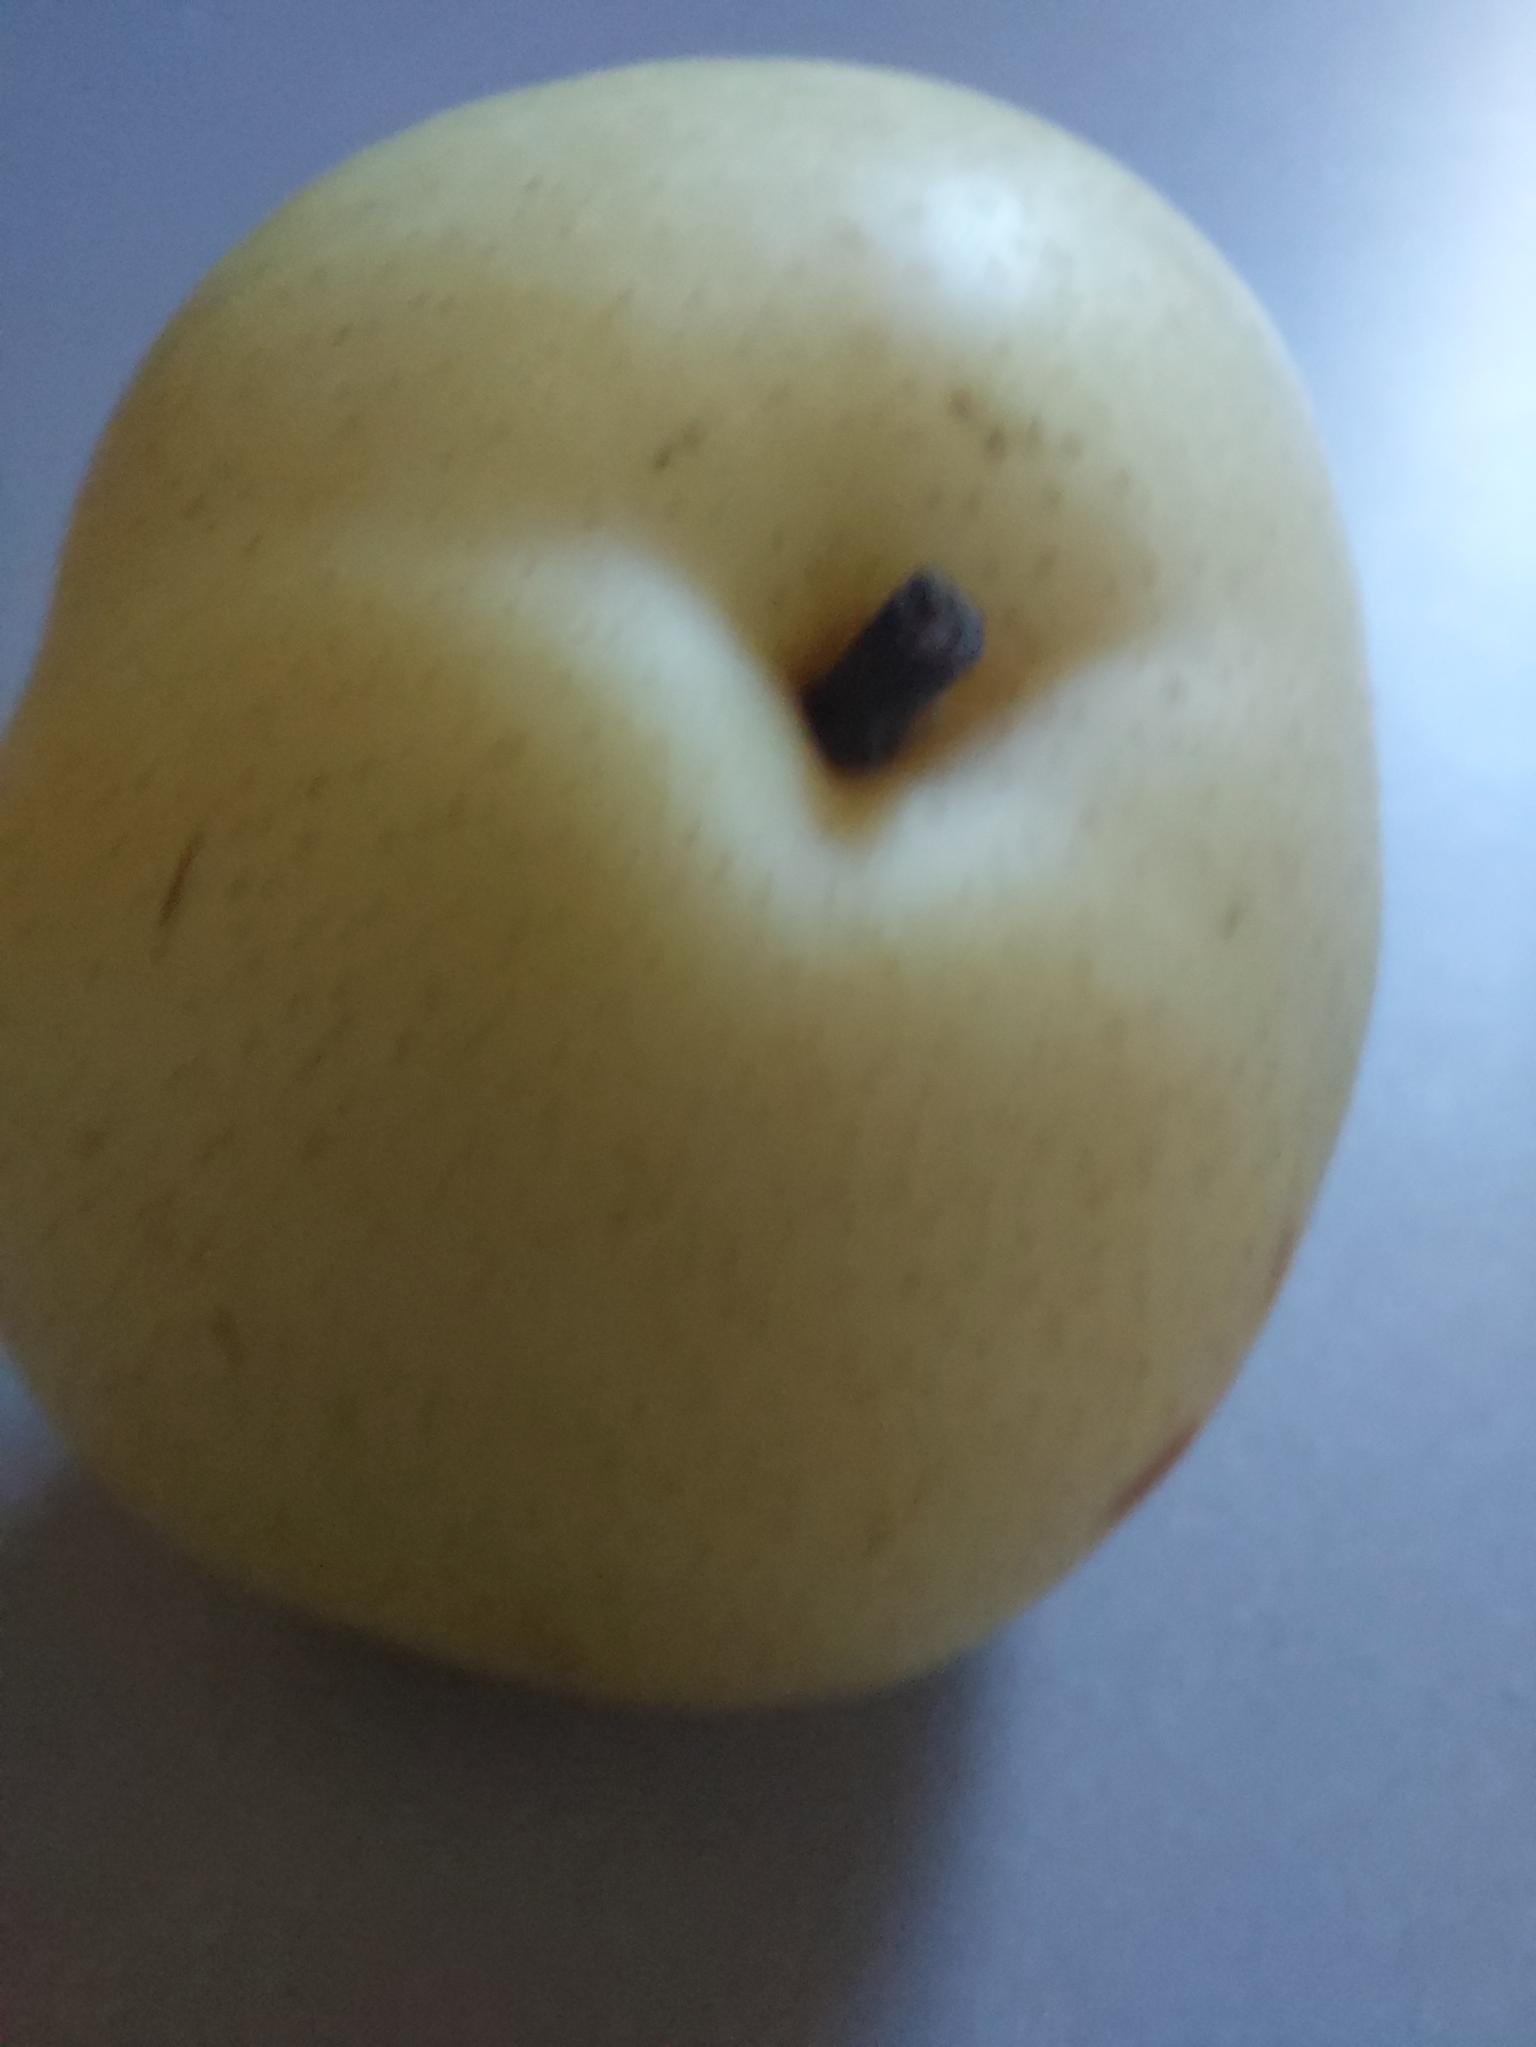Good Pear: (0, 0, 1536, 1799)
